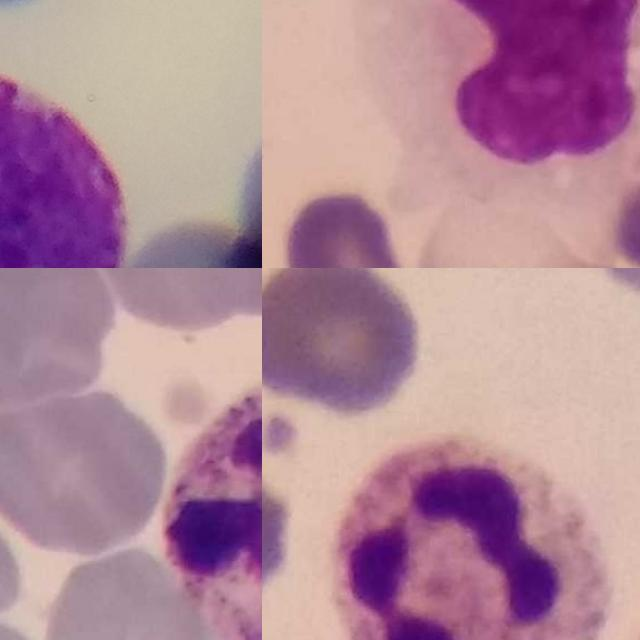Basophil: (0, 72, 126, 268)
Monocyte: (414, 0, 640, 182)
Neutrophil: (328, 435, 610, 640), (161, 374, 262, 640)
